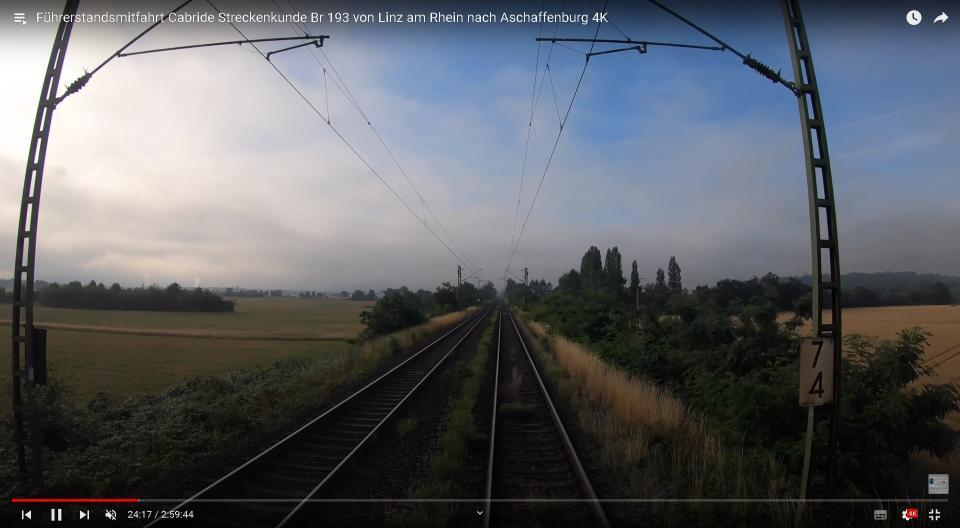Plant: (429, 323, 493, 479), (386, 503, 458, 528), (406, 480, 460, 499), (500, 366, 522, 402), (498, 403, 534, 420), (442, 360, 466, 380), (396, 415, 416, 435), (490, 309, 499, 324), (510, 348, 516, 361)
